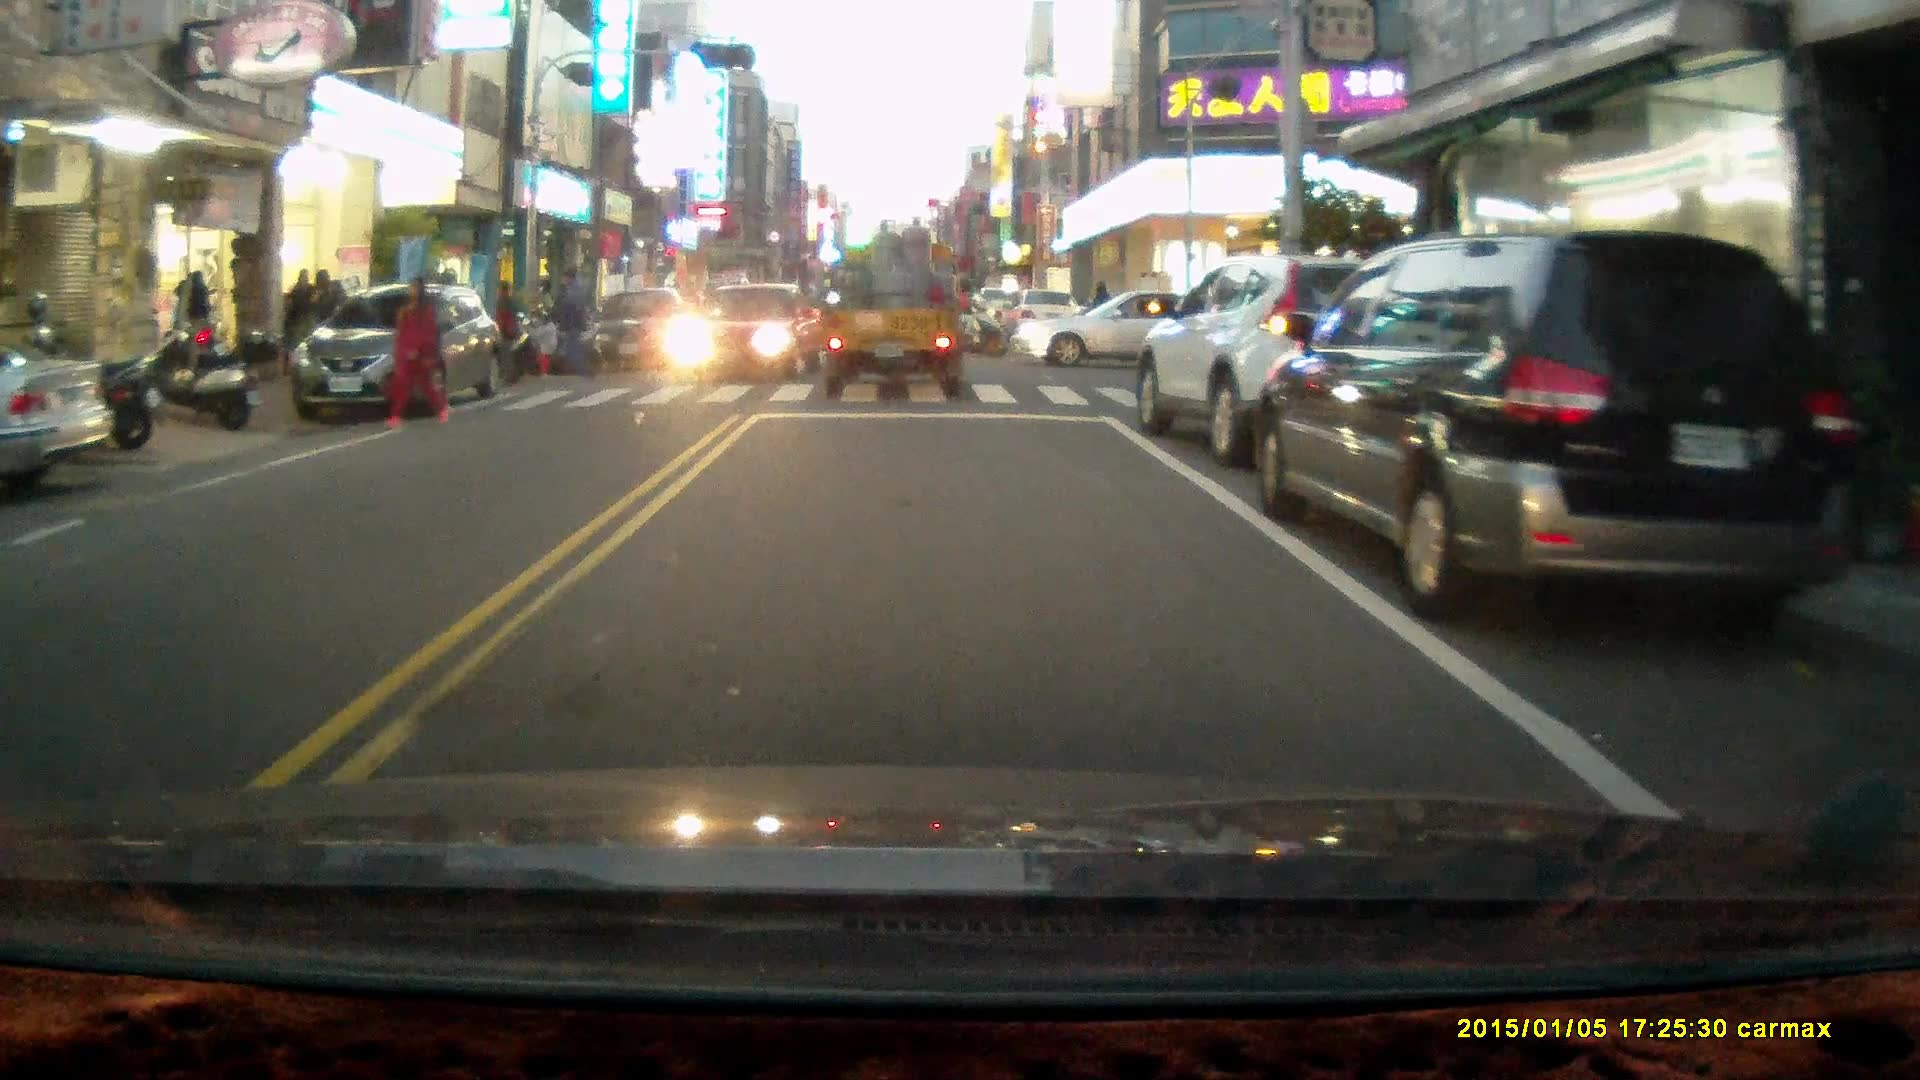pedestrian: (384, 274, 451, 431), (548, 263, 597, 383), (483, 275, 526, 388), (172, 268, 214, 371), (533, 307, 566, 383)
rider: (922, 269, 1008, 359)
vehicle: (1257, 232, 1845, 616), (1133, 251, 1465, 466), (290, 284, 499, 425), (818, 217, 974, 397), (1016, 286, 1242, 369), (668, 284, 818, 381), (1, 339, 106, 466), (577, 288, 701, 377)
